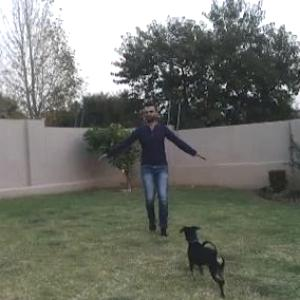land: (81, 99, 212, 258)
